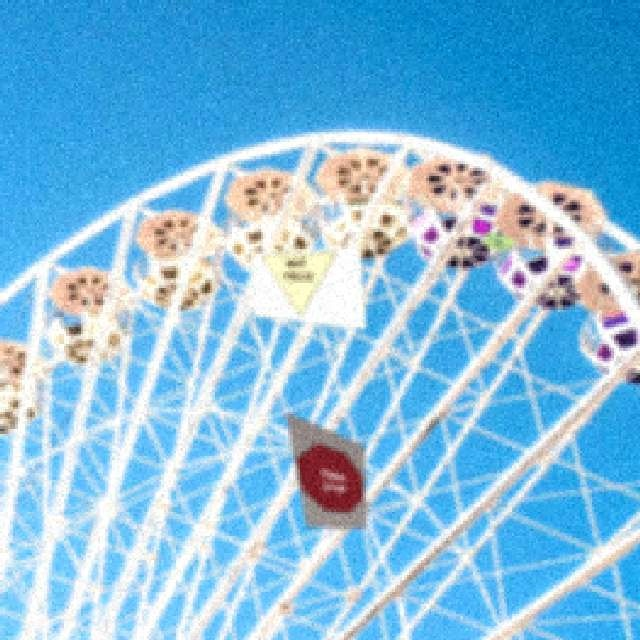FAKE_STOP: (291, 433, 362, 512)
GO_AROUND: (482, 228, 510, 250)
NOT_YIELD: (258, 248, 343, 319)
